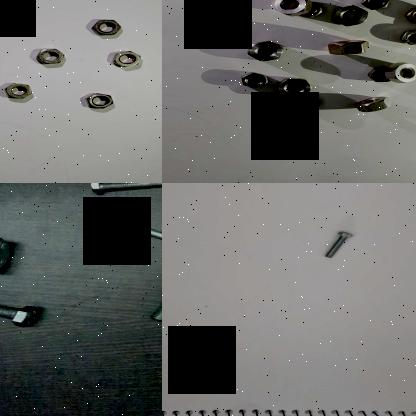Bolts: (96, 205, 162, 247), (85, 183, 162, 203), (0, 298, 48, 328), (315, 230, 357, 258), (142, 277, 162, 323)
NUTS: (240, 38, 286, 62), (271, 75, 316, 97), (348, 94, 396, 114), (322, 38, 370, 58), (332, 4, 372, 26), (383, 58, 416, 84), (85, 16, 127, 36), (108, 48, 146, 68), (269, 0, 316, 15), (34, 46, 68, 66), (0, 80, 34, 100), (238, 68, 270, 88), (367, 63, 397, 84), (84, 91, 116, 110), (291, 90, 321, 110), (298, 1, 326, 19), (397, 26, 416, 47), (361, 0, 393, 9), (401, 4, 416, 23)
